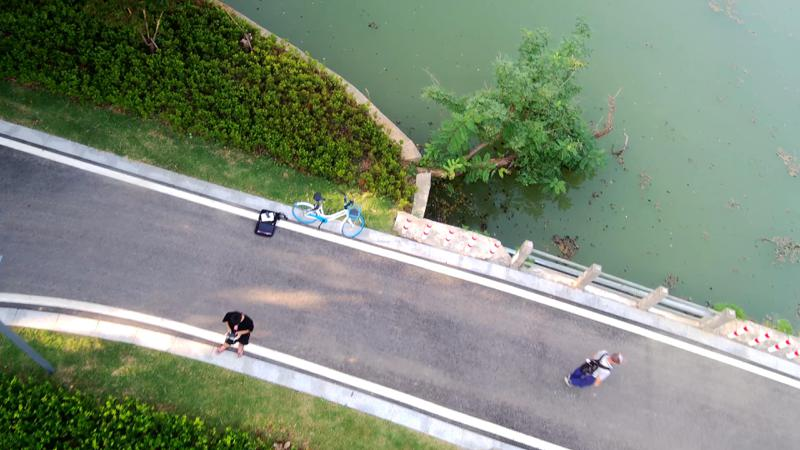passerby: (562, 348, 626, 390), (212, 309, 255, 358)
